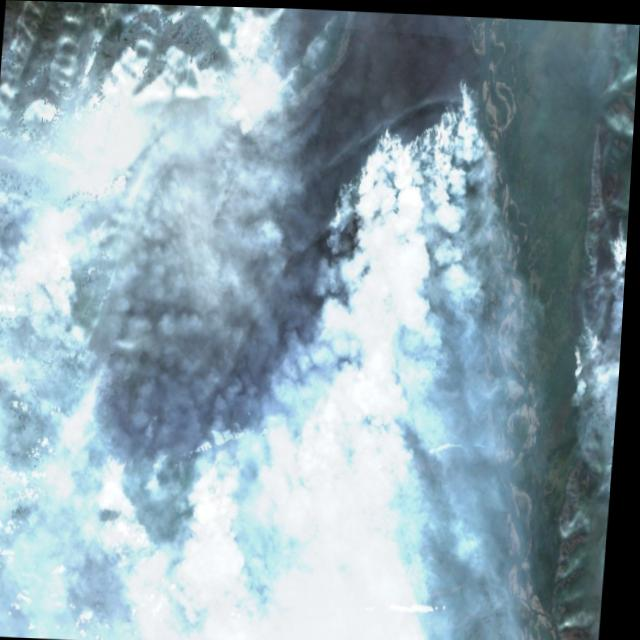fire: (0, 0, 640, 524)
